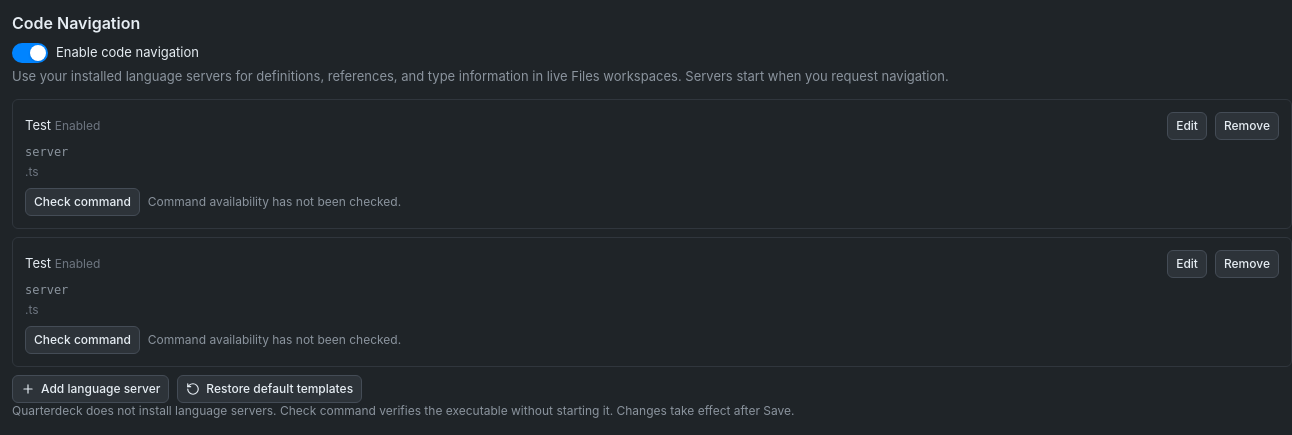
Test: language-server command availability settings › passes the server environment and keeps distinct results for the same command
Click the 1st button "Check command".
click(82, 202)  # box [25, 188, 140, 216]
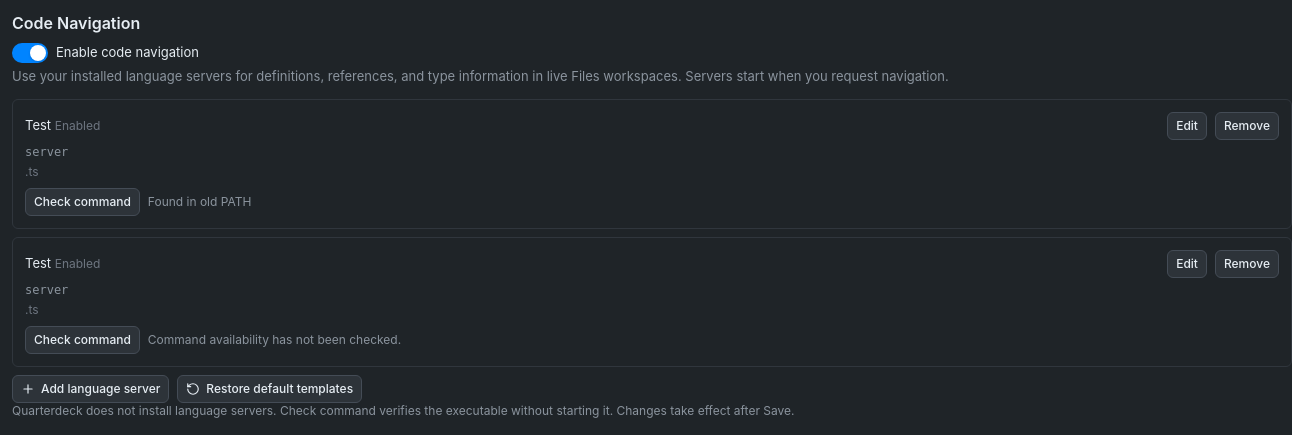
Expected: the message "Command availability has not been checked." is shown, [148, 332, 401, 348]
Click the 2nd button "Check command".
click(82, 340)  # box [25, 326, 140, 354]
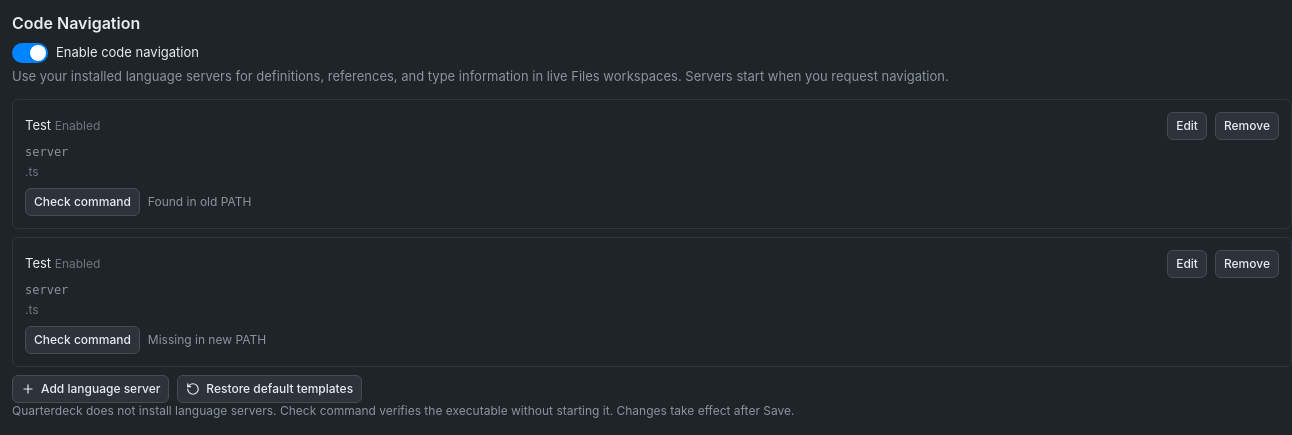
Expected: the text "Found in old PATH" is shown, [148, 194, 251, 210]
Expected: the text "Missing in new PATH" is shown, [148, 332, 266, 348]
